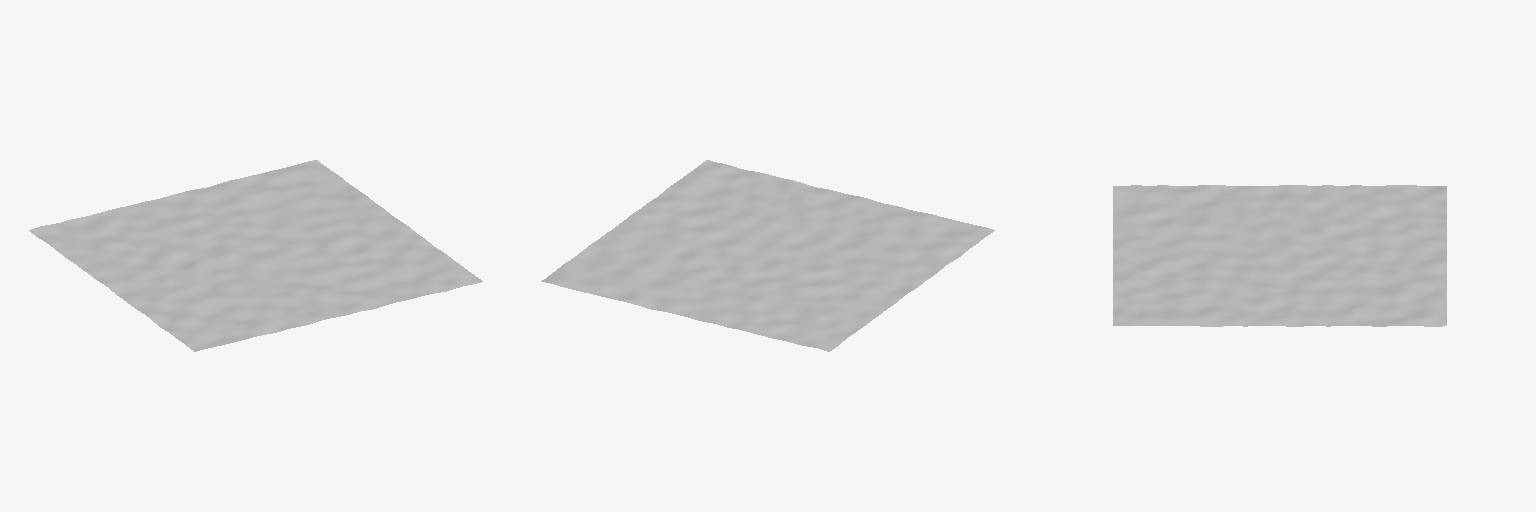
Rendered from ground.obj.
3 views of the same model, side by side, from view 1: azimuth 30°, elevation 25°; view 2: azimuth 150°, elevation 25°; view 3: azimuth 270°, elevation 25° (orthographic).
Visible parts, largest first — view 1: Plane; view 2: Plane; view 3: Plane.
Part boxes in pixels (x1,y1,x2,y2): Plane: (29,160,482,351); Plane: (541,160,994,351); Plane: (1113,185,1446,326).
Bounding box in the file's own units: 287 × 2.1 × 287.